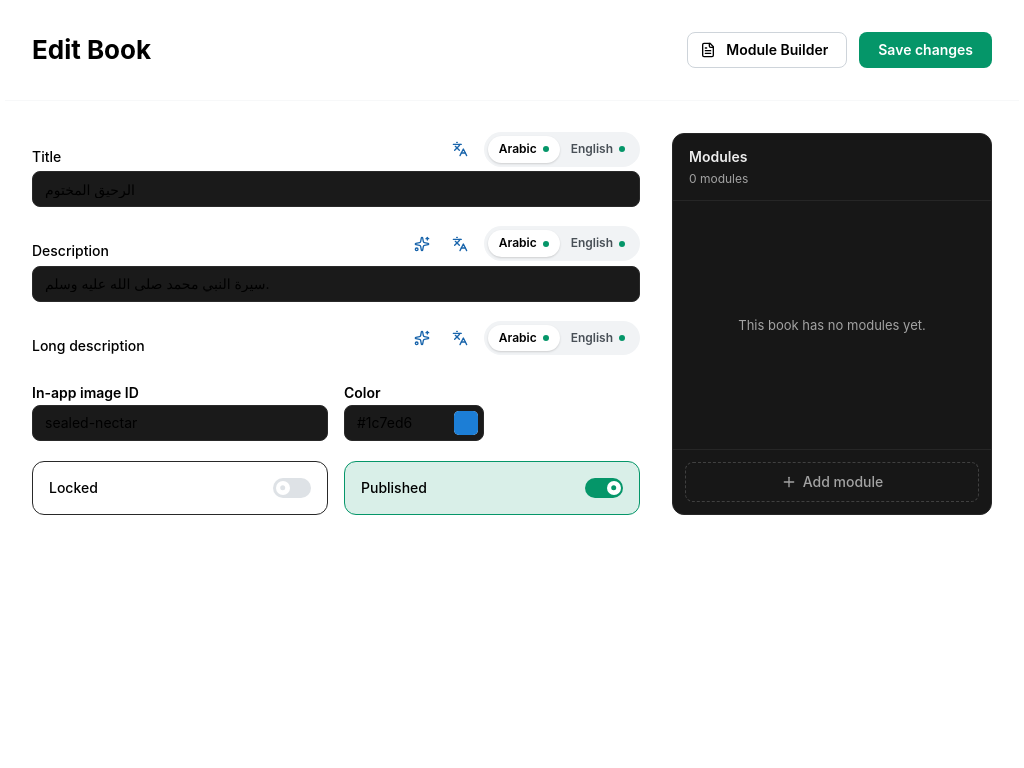
Scenario: EditBookPage › opens the Import Source modal, starting at the PDF picker
Click the button "Module Builder". click: [767, 50]
box: [687,32,847,68]
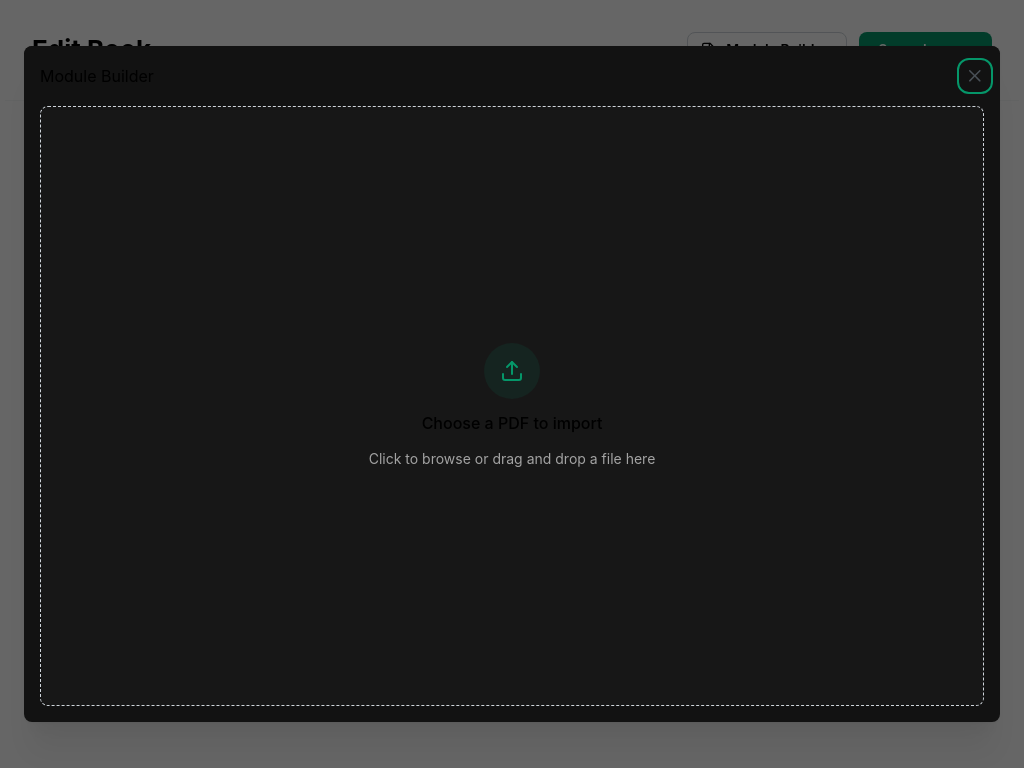
Now the dialog "Module Builder" is shown
Now the button "Choose a PDF to import" is shown
